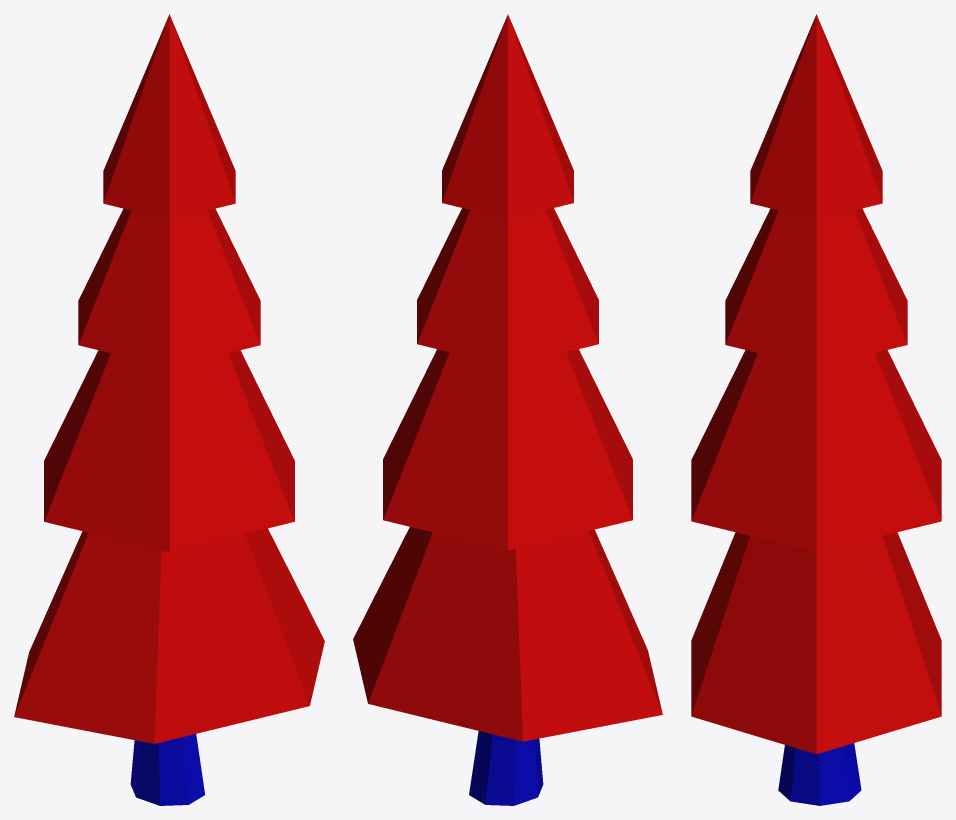
The model's file is SM_Tree_02.fbx.
3 renders of one model, left to right at view 1: azimuth 30°, elevation 25°; view 2: azimuth 150°, elevation 25°; view 3: azimuth 270°, elevation 25°, orthographic.
Parts seen in each view (by area): view 1: tree_02_trunk_geo1; view 2: tree_02_trunk_geo1; view 3: tree_02_trunk_geo1.
Boxes of the visible parts, x1,y1,x2,y2 form: tree_02_trunk_geo1: (14,14,324,805); tree_02_trunk_geo1: (353,14,662,805); tree_02_trunk_geo1: (691,14,941,805).
Size of the model in its own units: 409 by 976 by 285.
